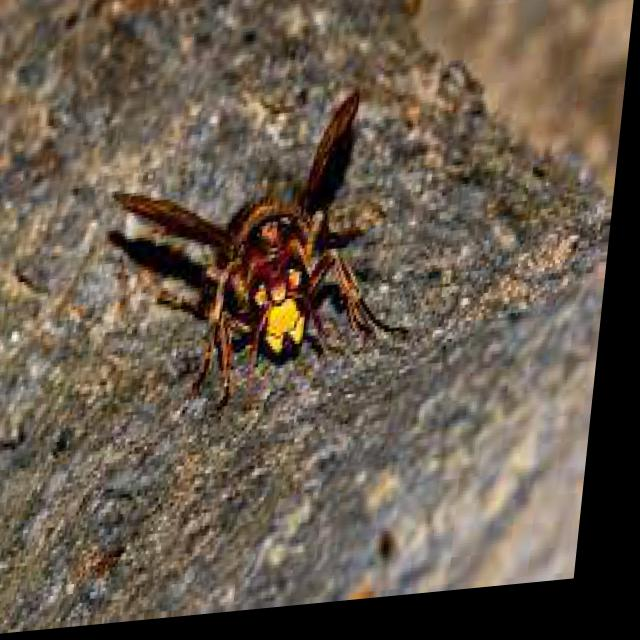Vespa Crabro: (88, 109, 420, 396)
